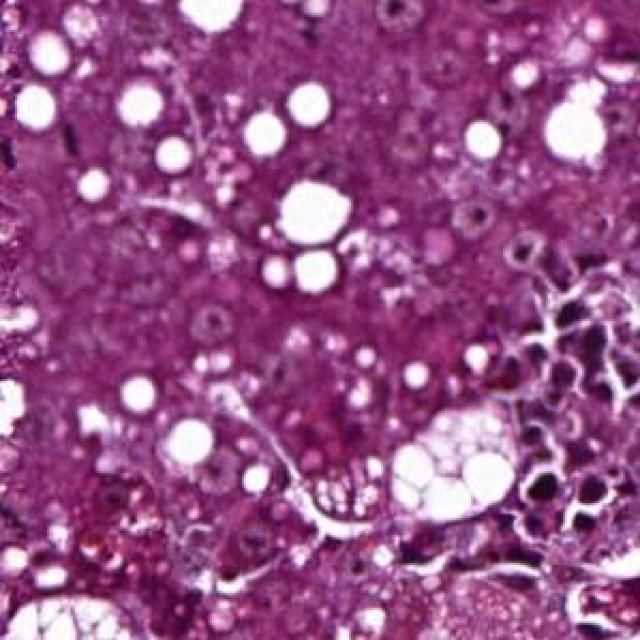ballooning: (383, 396, 525, 531), (0, 593, 150, 640)
